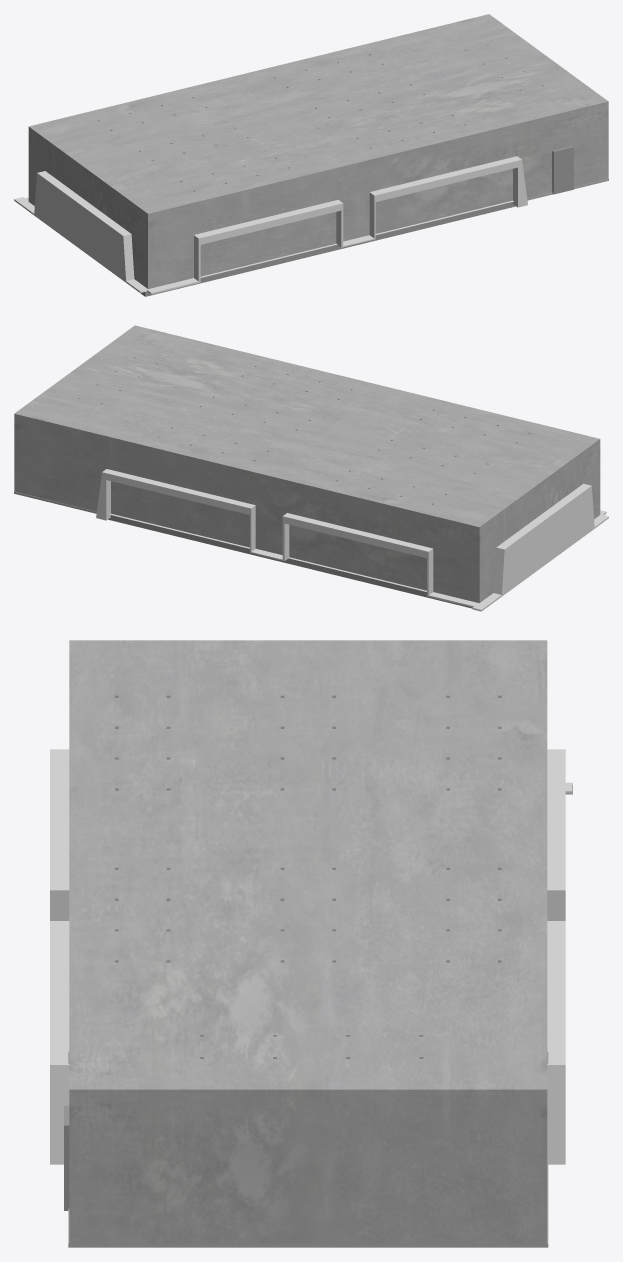
3 views of the same model, one above another, from view 1: azimuth 30°, elevation 25°; view 2: azimuth 150°, elevation 25°; view 3: azimuth 270°, elevation 25° (orthographic). The views are drawn at different scales.
Visible parts, largest first — view 1: Walls, Cube.003, Cube.014, Cube.005, Cube.012, Plane.016; view 2: Walls, Cube.014, Cube.004, Cube.005, Plane.016; view 3: Walls, Cube.003, Cube.004, Cube.006.
Part boxes in pixels (<box>): Walls: <box>28,14,608,288</box>; Cube.003: <box>146,156,527,294</box>; Cube.014: <box>14,171,147,292</box>; Cube.005: <box>72,202,515,296</box>; Cube.012: <box>552,146,573,194</box>; Plane.016: <box>143,200,513,291</box>; Walls: <box>14,325,600,603</box>; Cube.014: <box>472,483,608,611</box>; Cube.004: <box>96,469,481,607</box>; Cube.005: <box>108,515,560,608</box>; Plane.016: <box>110,513,606,591</box>; Walls: <box>69,640,547,1243</box>; Cube.003: <box>50,749,69,1164</box>; Cube.004: <box>547,749,565,1164</box>; Cube.006: <box>68,1160,548,1247</box>.
Bounding box in the file's own units: 36.23 × 6.08 × 17.5.
19 materials, 4 textured.
